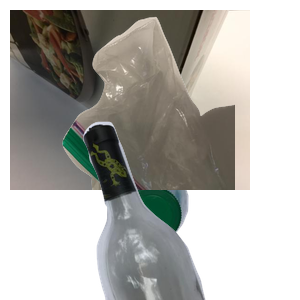cardboard: (10, 10, 250, 190)
glass: (81, 120, 300, 300)
plastic: (110, 164, 300, 300)
trash: (60, 14, 300, 194)
